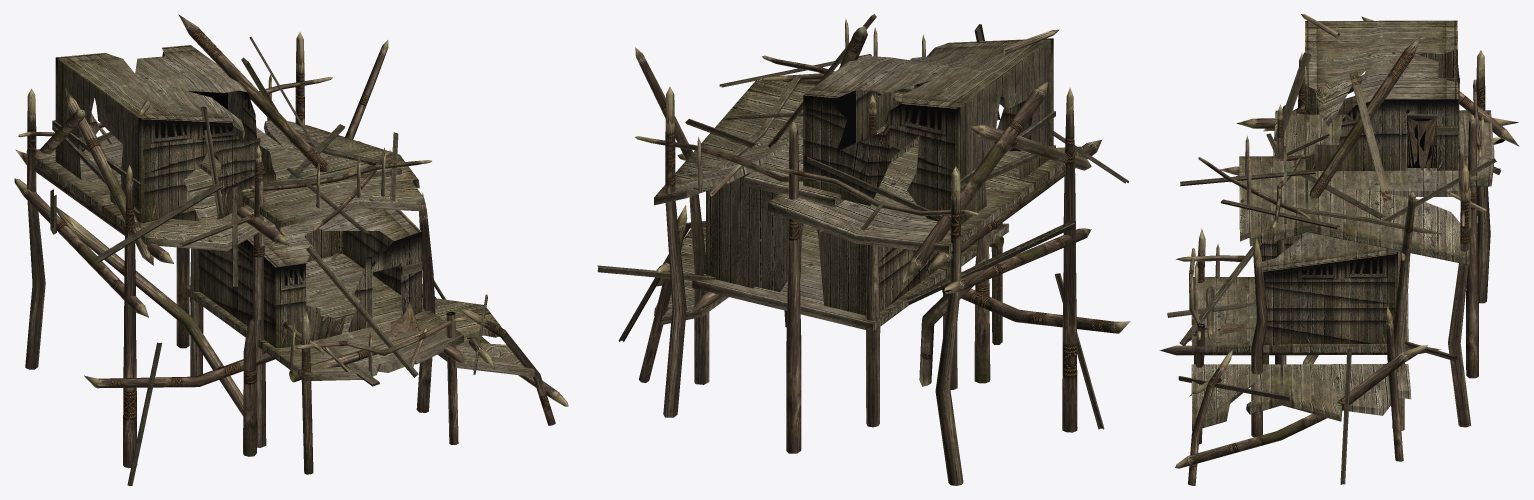
File: gaint_builda_08_d.fbx
The picture shows the model from 3 angles, left to right: view 1: azimuth 30°, elevation 25°; view 2: azimuth 150°, elevation 25°; view 3: azimuth 270°, elevation 25°; orthographic projection. The views are drawn at different scales.
Parts seen in each view (by area): view 1: gaint_buildA_08; view 2: gaint_buildA_08; view 3: gaint_buildA_08.
Part boxes in pixels (box(x1,y1,x2,y2)): gaint_buildA_08: box(14, 14, 568, 485); gaint_buildA_08: box(597, 14, 1130, 485); gaint_buildA_08: box(1159, 14, 1519, 485).
Size of the model in its own units: 21.54 by 18.62 by 17.62.
